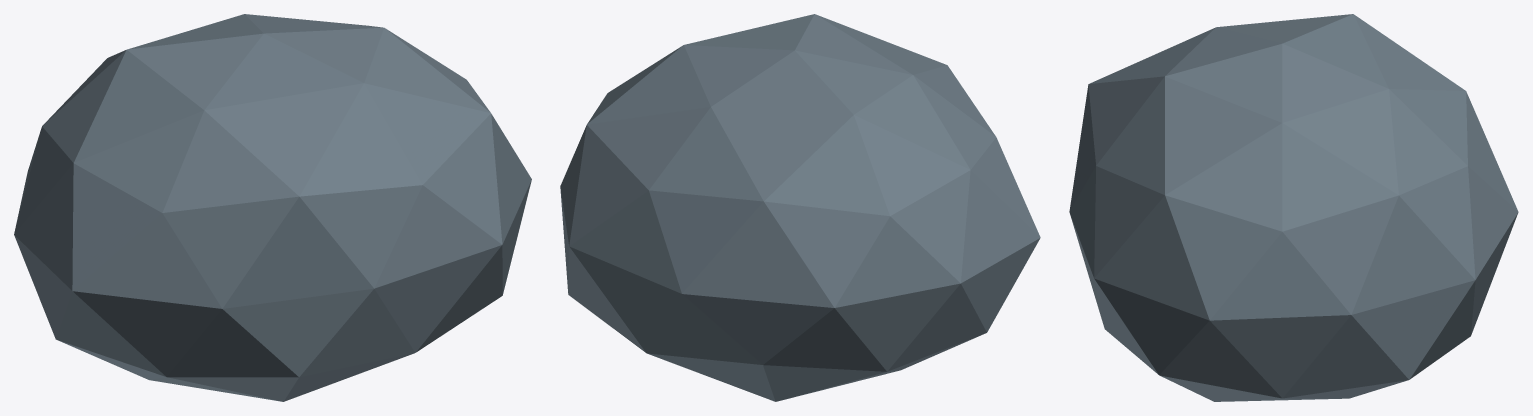
The model's file is large_boulder.glb.
3 renders of one model, left to right at view 1: azimuth 30°, elevation 25°; view 2: azimuth 150°, elevation 25°; view 3: azimuth 270°, elevation 25°, orthographic. The views are drawn at different scales.
Parts seen in each view (by area): view 1: Large Boulder; view 2: Large Boulder; view 3: Large Boulder.
Boxes of the visible parts, left/top/right/bottom form: Large Boulder: left=14, top=14, right=531, bottom=401; Large Boulder: left=560, top=14, right=1040, bottom=401; Large Boulder: left=1069, top=14, right=1518, bottom=401.
Size of the model in its own units: 0.9977 by 0.7451 by 0.8748.
